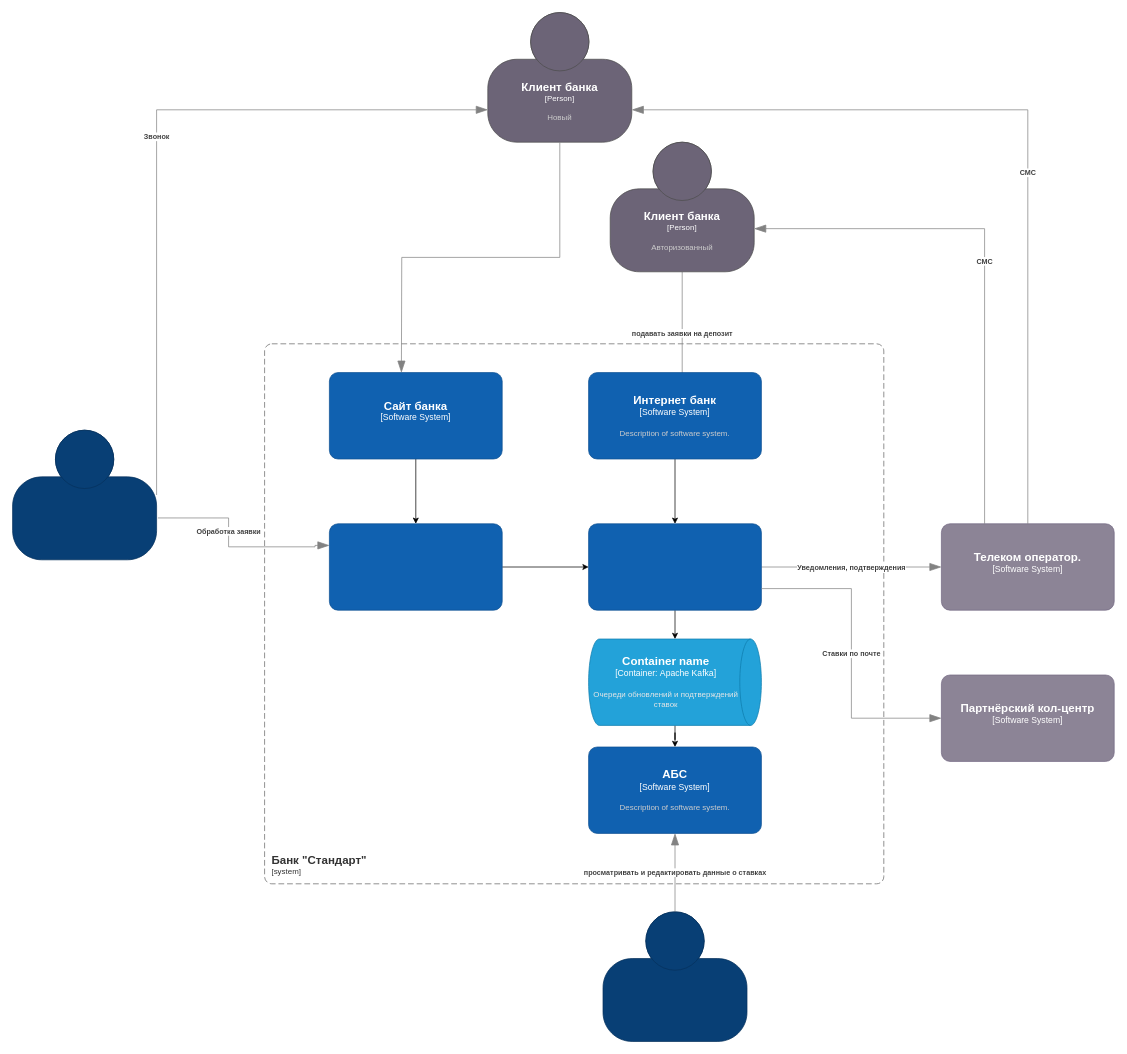
This 1127x1054 diagram has some shape labels left out. Each missing label, with the centre of its shape:
"Сервис депозитов [Software System] Description of software system." belongs at point 674,566.
"Система колл-центра [Software System] Description of software system." belongs at point 415,566.
"Сотрудник бэк-офиса [Person]" belongs at point 674,976.
"Сотрудник кол-центра [Person]" belongs at point 84,494.
